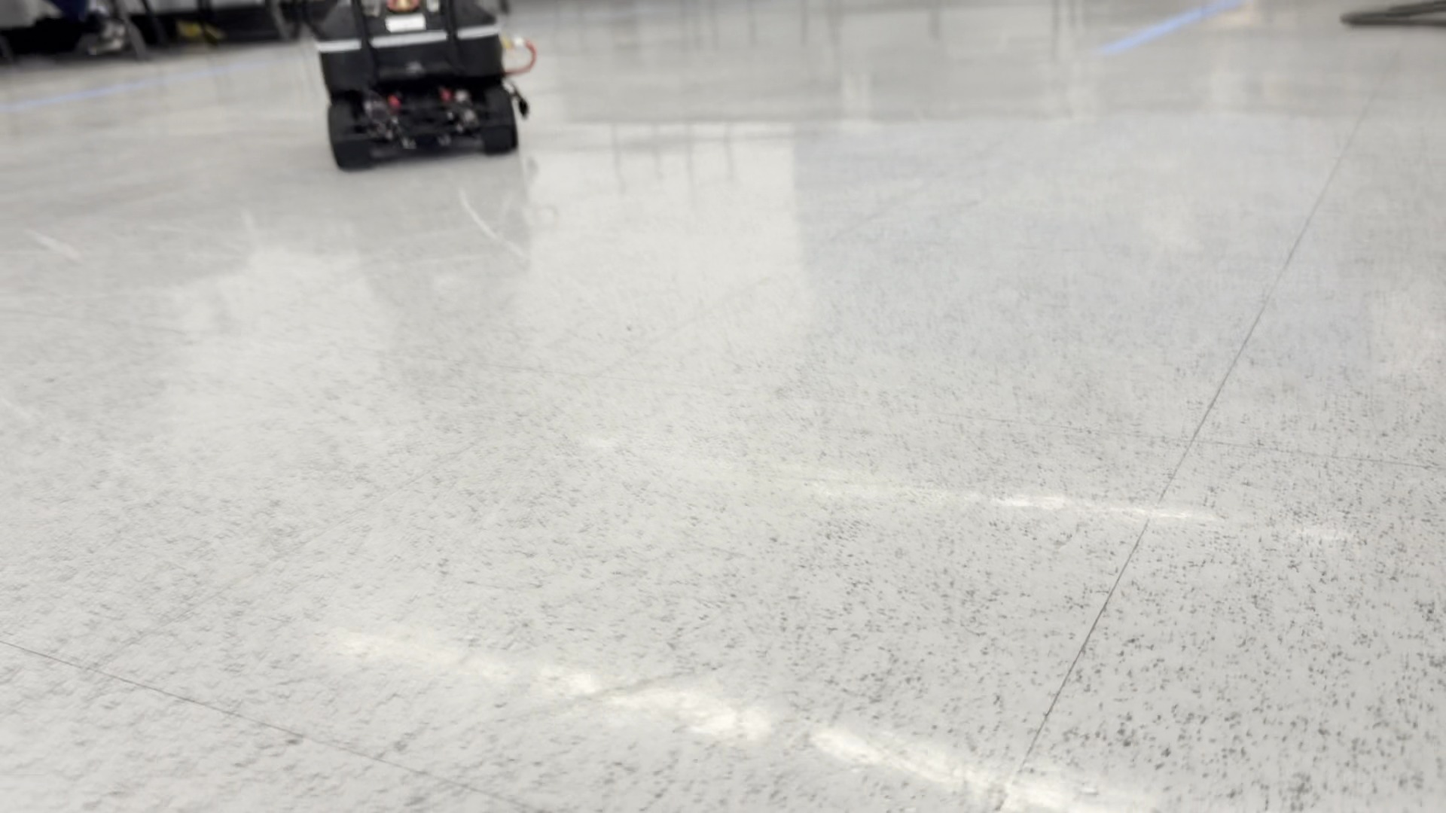racecar: (318, 0, 535, 171)
